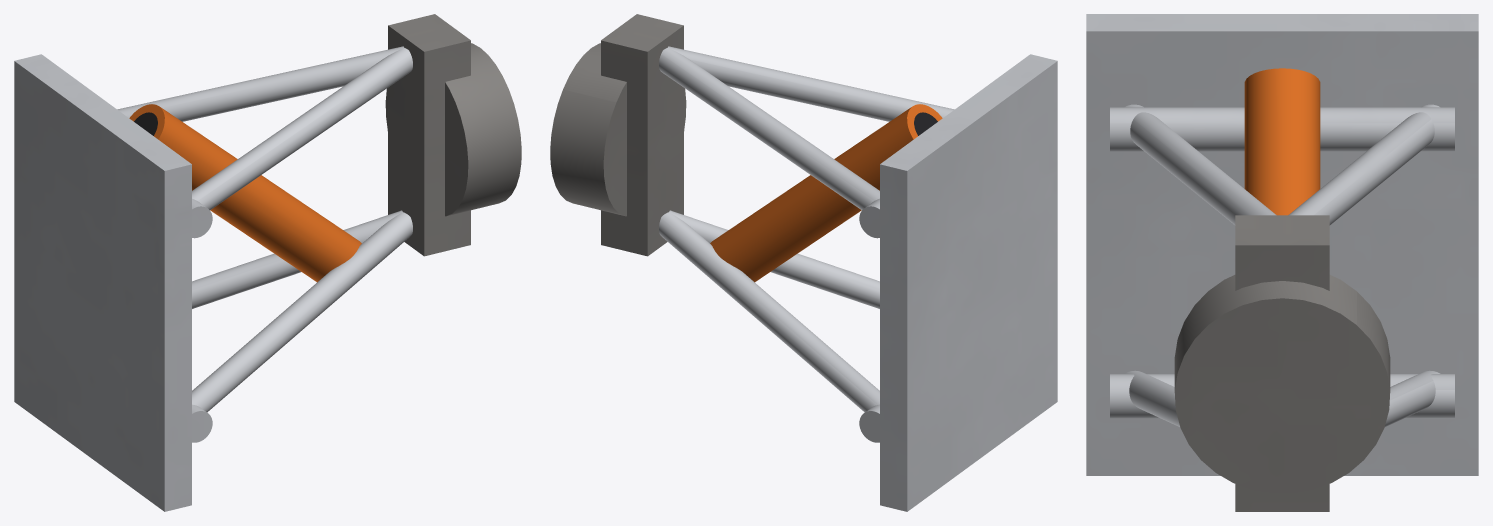
Rendered from rover17_suspension_arm_s_susp_up.glb.
3 views of the same model, side by side, from view 1: azimuth 30°, elevation 25°; view 2: azimuth 150°, elevation 25°; view 3: azimuth 270°, elevation 25° (orthographic). The views are drawn at different scales.
Visible parts, largest first — view 1: mount_plate, arm_upright, arm_upper, arm_lower, spring; view 2: mount_plate, arm_upright, arm_upper, arm_lower, spring; view 3: mount_plate, arm_upright, arm_upper, spring, arm_lower.
Part boxes in pixels (x1,y1,x2,y2): mount_plate: (14, 54, 191, 511); arm_upright: (385, 14, 521, 256); arm_upper: (117, 46, 412, 238); arm_lower: (192, 210, 412, 442); spring: (129, 104, 361, 282); mount_plate: (880, 54, 1057, 511); arm_upright: (550, 14, 686, 256); arm_upper: (659, 46, 954, 238); arm_lower: (659, 210, 879, 442); spring: (710, 104, 942, 282); mount_plate: (1086, 14, 1478, 475); arm_upright: (1174, 215, 1390, 511); arm_upper: (1110, 104, 1454, 225); spring: (1244, 68, 1320, 215); arm_lower: (1110, 370, 1454, 426).
Bounding box in the file's own units: 0.3 × 0.25 × 0.2.
4 materials, 2 textured.
